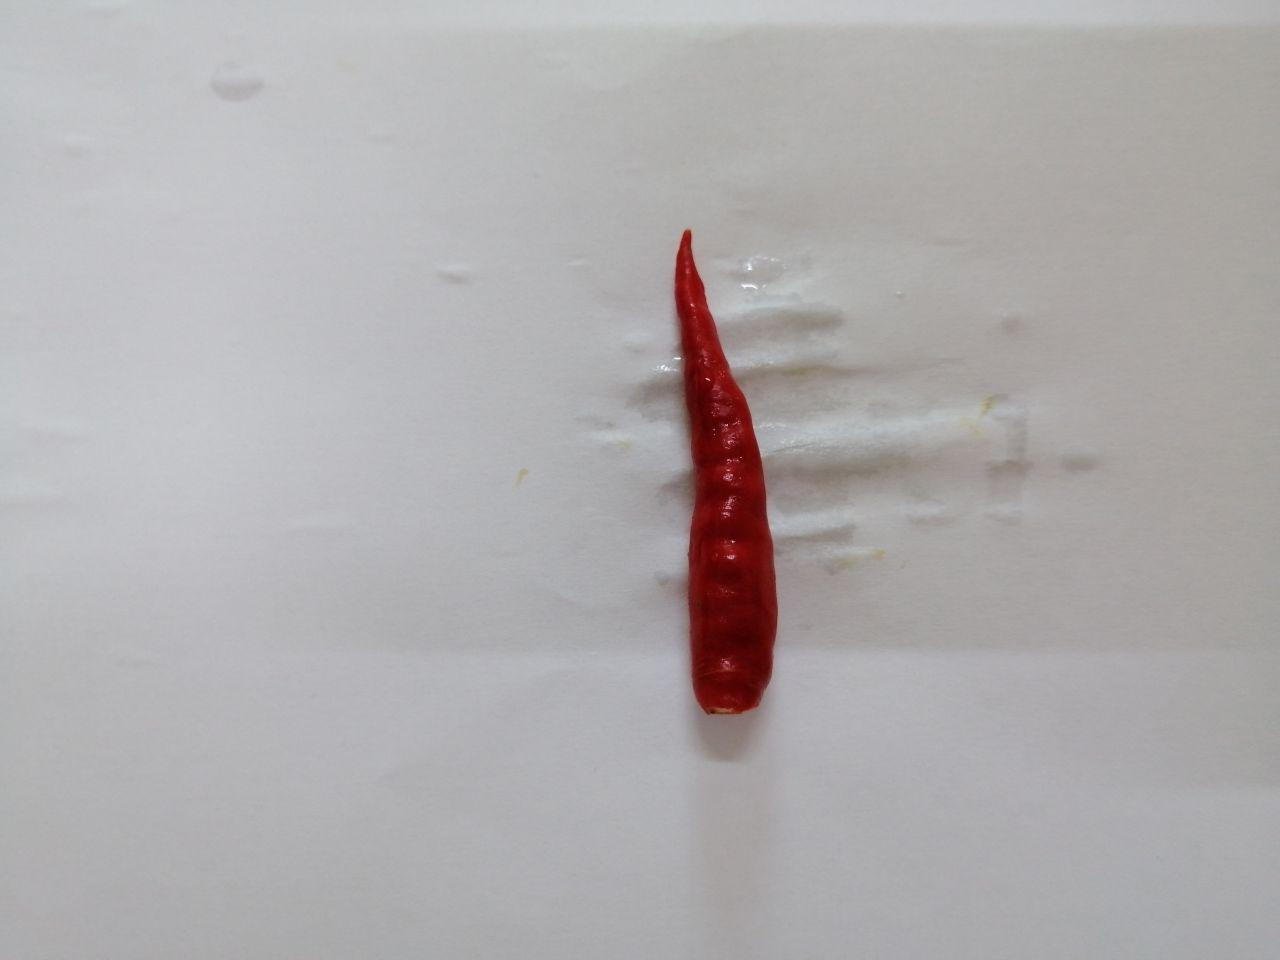lada merah: (643, 218, 803, 724)
